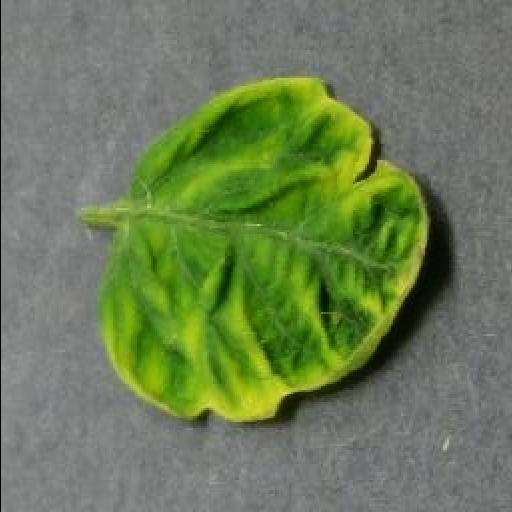disease_tomato: (98, 75, 432, 427)
